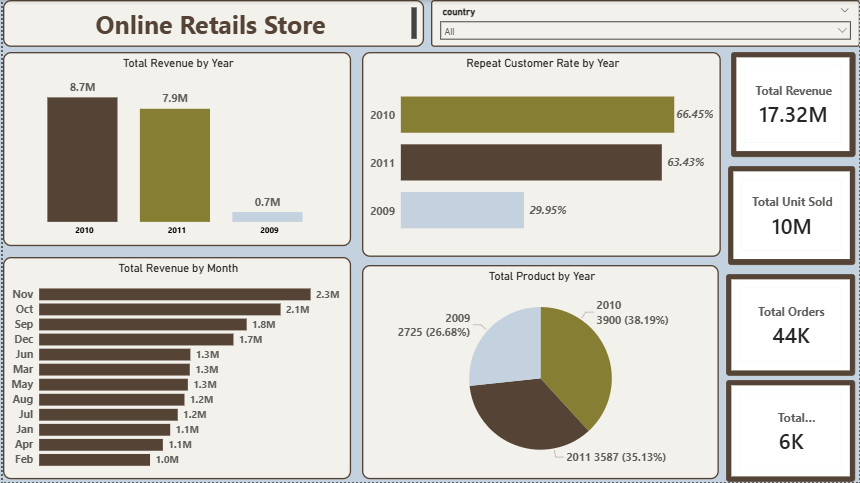

What the dashboard file says about the page in this screenshot:
{"tool":"powerbi","page":{"name":"TIME INTELLIGENCE","canvas":[1280,720],"ordinal":4},"visuals":[{"type":"cardVisual","fields":{"Data":["customers.Total Revenue"]},"box":[1087.3,77.6,185.9,156.6],"z":0},{"type":"cardVisual","fields":{"Data":["orders.Total Orders"]},"box":[1080,409.8,193.2,152.2],"z":1000},{"type":"cardVisual","fields":{"Data":["customers.Total Customers"]},"box":[1080,567.8,193.2,152.2],"z":2000},{"type":"cardVisual","fields":{"Data":["orderdetails.Total Unit Sold"]},"box":[1082.9,247.3,190.2,147.8],"z":3000},{"type":"textbox","box":[0,0,629.3,70.2],"z":4000},{"type":"clusteredBarChart","fields":{"Category":["DateTable.Month"],"Y":["customers.Total Revenue"]},"box":[0,383.4,519.5,332.2],"z":5000},{"type":"clusteredBarChart","fields":{"Category":["DateTable.Year"],"Y":["customers.Repeat Customer Rate"]},"box":[535.6,77.6,535.6,305.9],"z":6000},{"type":"columnChart","fields":{"Category":["DateTable.Year"],"Y":["customers.Total Revenue"]},"box":[0,77.6,519.5,289.8],"z":7000},{"type":"pieChart","fields":{"Category":["DateTable.Year"],"Y":["products.Total Product"]},"box":[536.3,395.9,533.3,319.7],"z":8000},{"type":"slicer","fields":{"Values":["customers.country"]},"box":[639.5,0,641,70.2],"z":9000}]}

Visuals, with their boxes in screenshot pixels (x1, y1, x2, y2), scaled from the page's 1280x720 canvas onto the 860x483 screenshot:
cardVisual - customers.Total Revenue: <bbox>731, 52, 855, 157</bbox>
cardVisual - orders.Total Orders: <bbox>726, 275, 855, 377</bbox>
cardVisual - customers.Total Customers: <bbox>726, 381, 855, 482</bbox>
cardVisual - orderdetails.Total Unit Sold: <bbox>728, 166, 855, 265</bbox>
textbox: <bbox>0, 0, 423, 47</bbox>
clusteredBarChart - DateTable.Month x customers.Total Revenue: <bbox>0, 257, 349, 480</bbox>
clusteredBarChart - DateTable.Year x customers.Repeat Customer Rate: <bbox>360, 52, 720, 257</bbox>
columnChart - DateTable.Year x customers.Total Revenue: <bbox>0, 52, 349, 246</bbox>
pieChart - DateTable.Year x products.Total Product: <bbox>360, 266, 719, 480</bbox>
slicer - customers.country: <bbox>430, 0, 859, 47</bbox>
